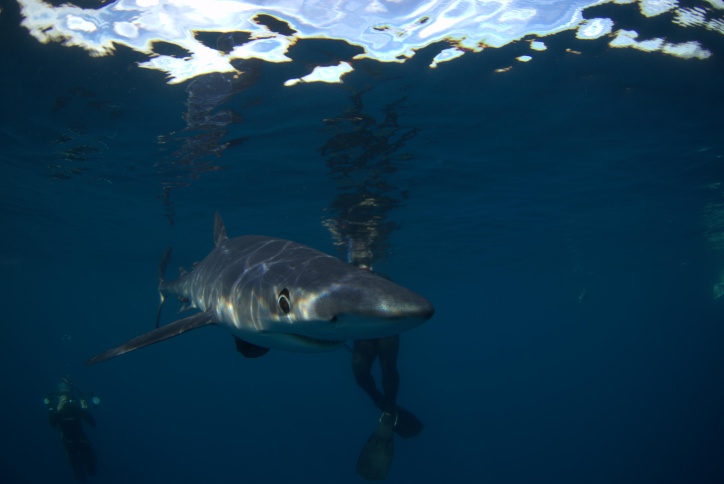Azul: (111, 191, 454, 390)
